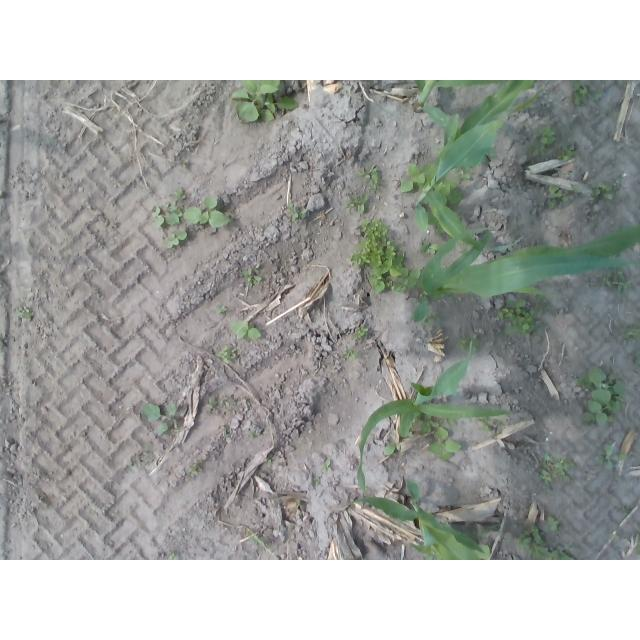Maize: (413, 80, 540, 252), (412, 227, 640, 321), (356, 361, 512, 491), (335, 474, 490, 560), (412, 81, 532, 128)
Weeds: (350, 218, 420, 294), (151, 188, 231, 228), (576, 365, 625, 428), (230, 80, 298, 125), (496, 294, 549, 342), (513, 524, 575, 561), (539, 452, 577, 485), (140, 404, 176, 437), (428, 427, 461, 461), (528, 123, 557, 157), (401, 163, 432, 194), (436, 174, 463, 207), (543, 185, 581, 208), (409, 412, 444, 436), (357, 164, 385, 193), (594, 445, 627, 469), (599, 269, 629, 294), (463, 522, 499, 542), (424, 209, 449, 236), (230, 321, 262, 340), (454, 332, 480, 353), (570, 81, 590, 108), (476, 416, 507, 433), (242, 265, 263, 288), (163, 231, 190, 248), (592, 180, 613, 201), (345, 193, 367, 213), (620, 321, 640, 339), (556, 145, 580, 160), (288, 203, 308, 221), (456, 164, 473, 183), (216, 346, 236, 362), (15, 306, 34, 322), (423, 311, 441, 327), (419, 241, 439, 255), (479, 149, 498, 163), (383, 444, 402, 457), (341, 346, 357, 360), (352, 325, 368, 339), (546, 514, 559, 531), (183, 464, 199, 475), (206, 397, 218, 411), (321, 459, 332, 473), (249, 534, 264, 544), (181, 159, 192, 170), (636, 530, 640, 555), (216, 304, 227, 313), (445, 418, 455, 427), (311, 478, 321, 487), (634, 351, 640, 365), (222, 430, 231, 439), (248, 429, 256, 439), (168, 549, 174, 560), (267, 454, 274, 463)
